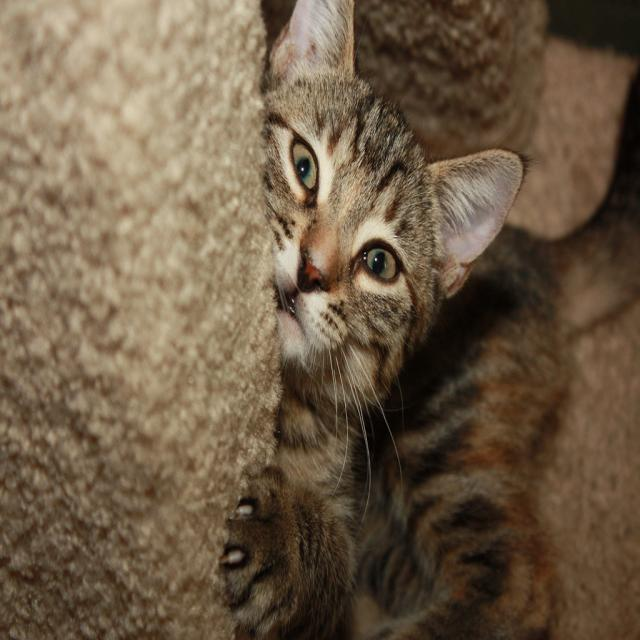Cat: (218, 0, 563, 638)
